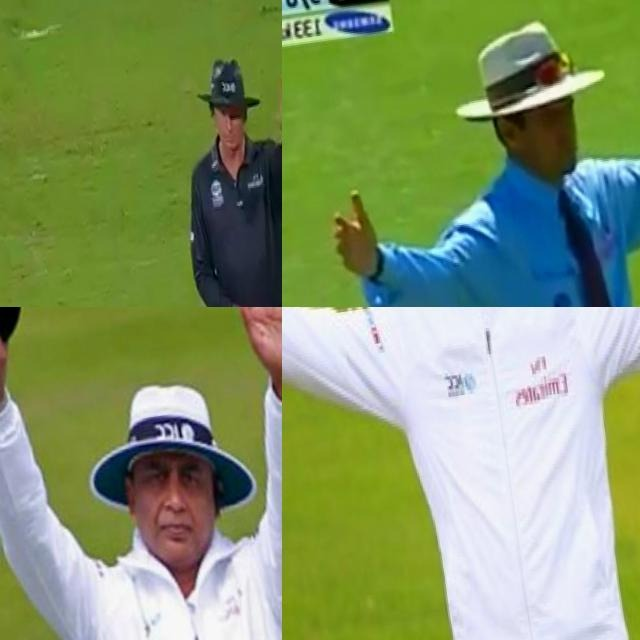Out: (157, 39, 282, 307)
Six: (0, 307, 282, 640)
Wide: (282, 307, 640, 640), (305, 0, 640, 307)
